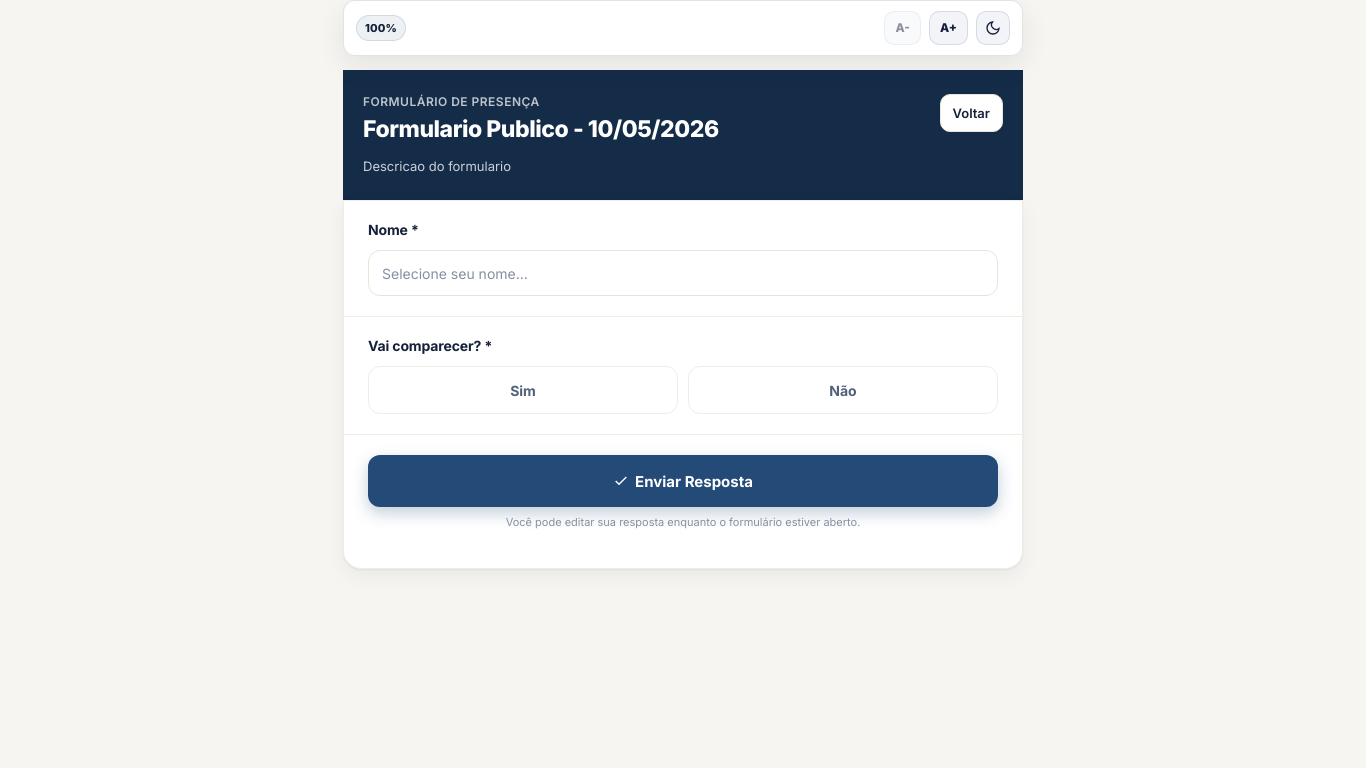
Scenario: PublicFormScreen › mostra popup de erro quando tenta enviar sem selecionar pessoa
Click the button "Enviar Resposta" at (683, 481), box [368, 455, 998, 507]
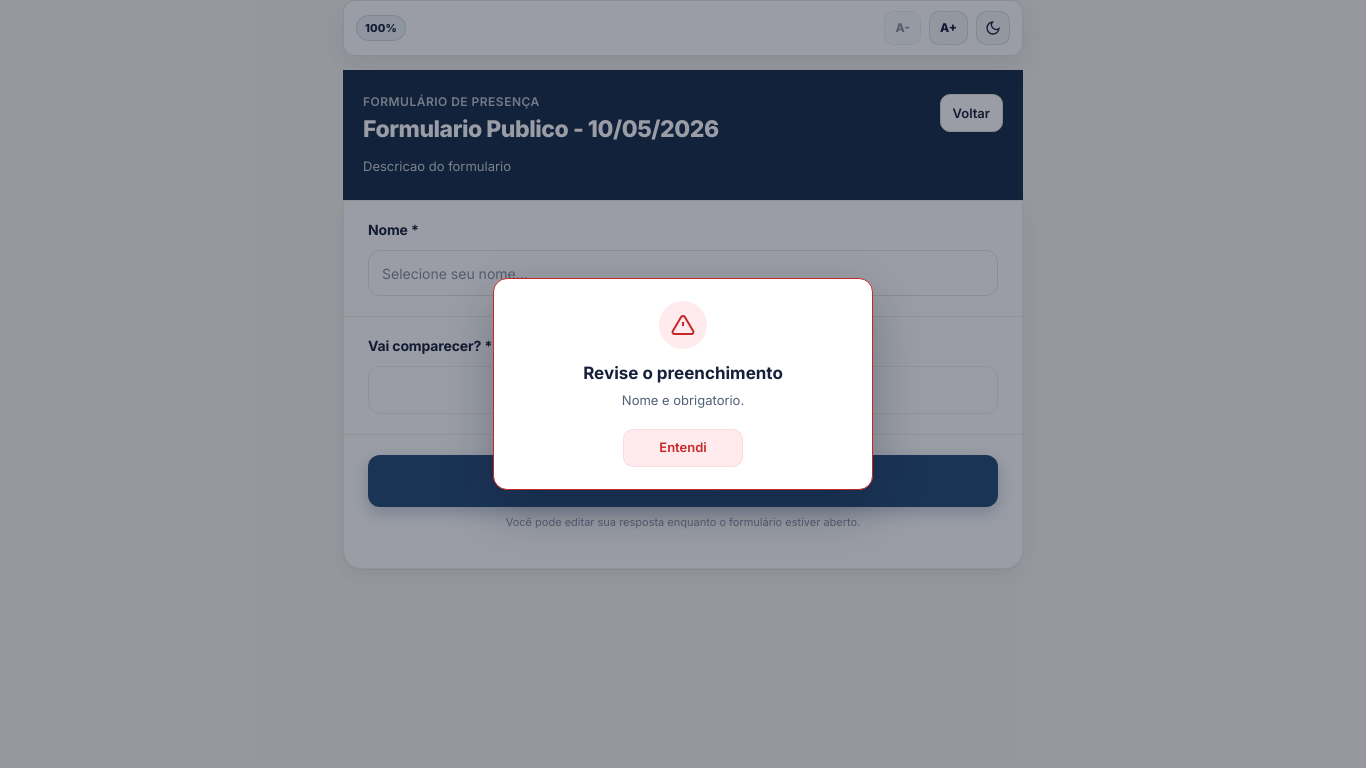
Expected: the dialog "Revise o preenchimento" is shown
Expected: the text "Nome e obrigatorio." is shown, [622, 392, 744, 408]
